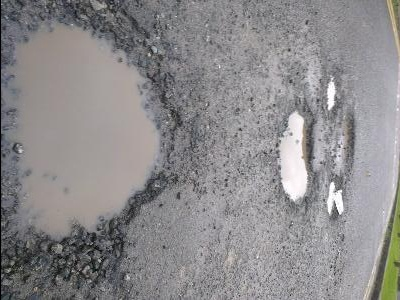pothole: (0, 3, 187, 279), (277, 101, 316, 208), (339, 106, 356, 175), (325, 179, 348, 219), (324, 72, 342, 114)
